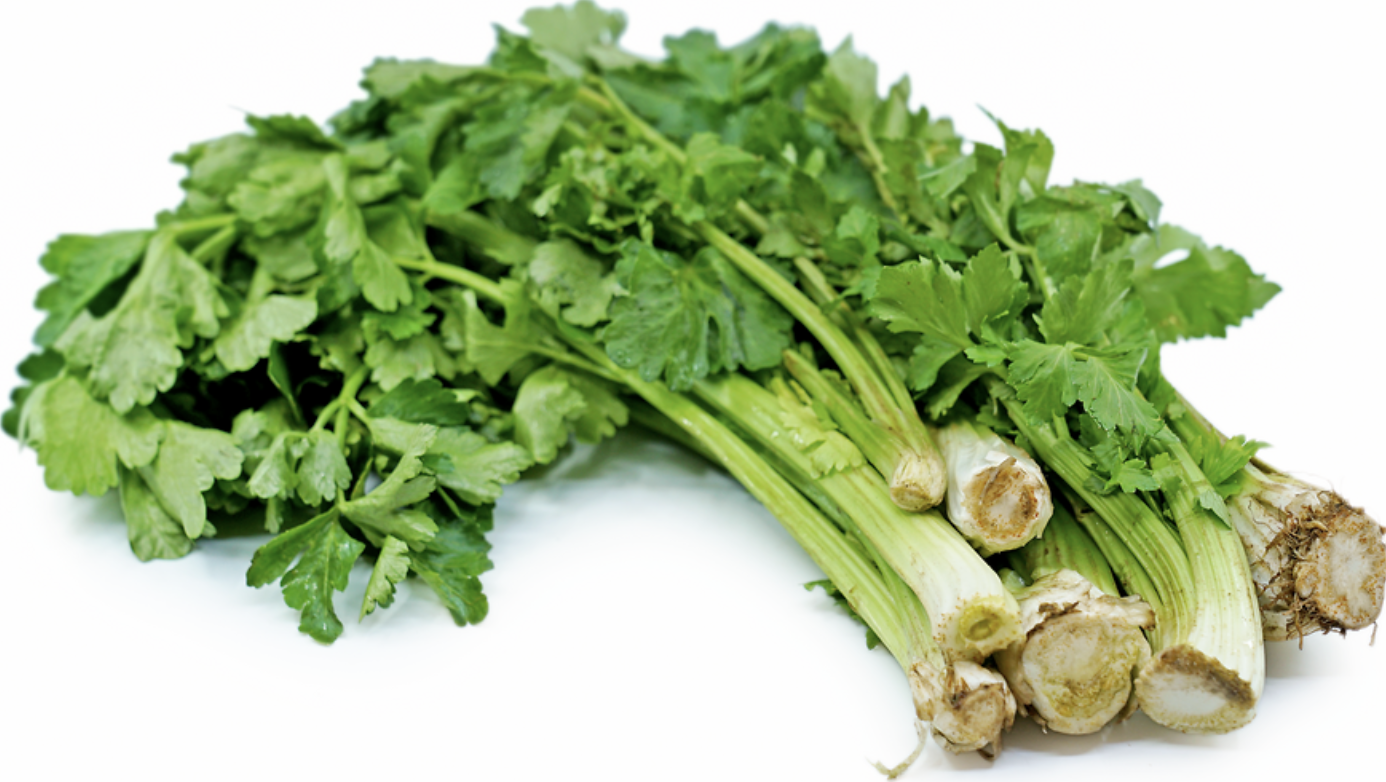Seledri: (69, 52, 1352, 718)
